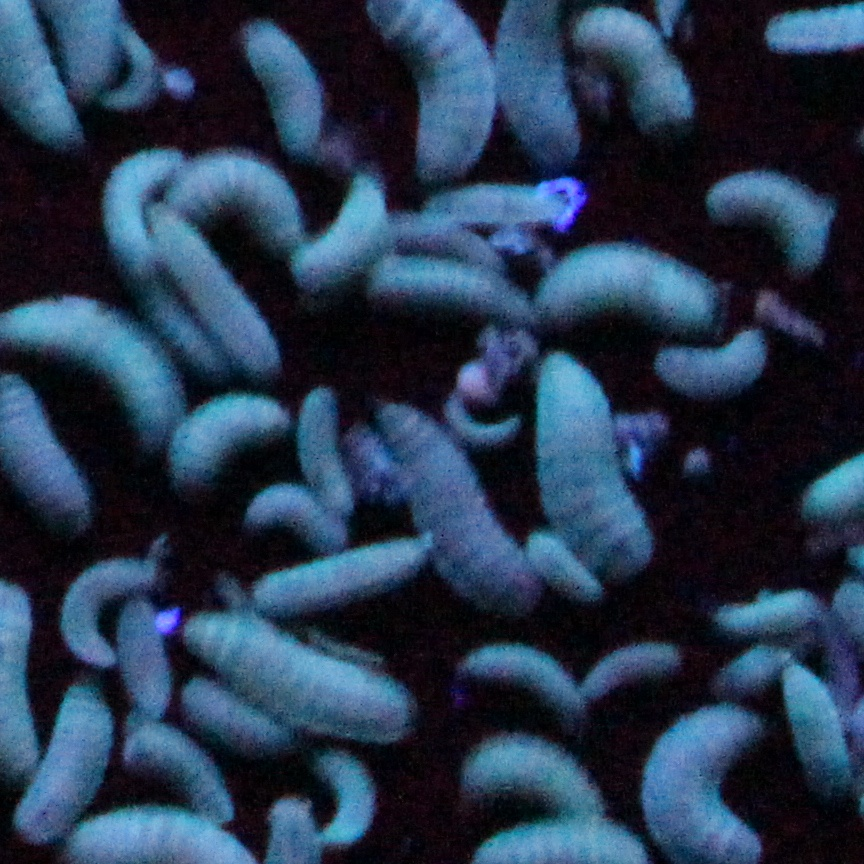larve: (517, 345, 670, 601), (365, 389, 534, 614), (173, 599, 417, 748), (10, 670, 124, 849), (519, 229, 722, 327), (696, 163, 845, 276), (232, 16, 334, 155), (173, 383, 294, 493), (291, 167, 389, 294), (463, 628, 594, 721), (96, 130, 173, 283), (653, 314, 768, 398), (573, 633, 681, 715), (313, 741, 390, 854), (511, 535, 616, 617)
